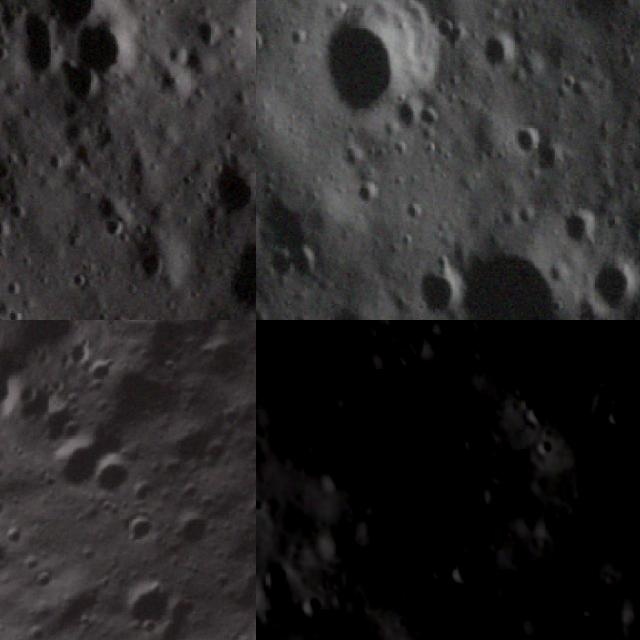crater: (314, 0, 451, 125), (346, 406, 462, 542), (460, 229, 589, 320), (256, 320, 362, 400), (59, 3, 148, 92), (190, 139, 256, 236), (39, 420, 118, 501), (107, 568, 192, 640), (206, 219, 256, 320), (83, 444, 148, 510), (160, 498, 225, 560), (194, 329, 256, 392), (23, 0, 120, 39), (413, 253, 464, 320), (589, 251, 640, 314), (114, 504, 166, 557), (122, 237, 174, 289), (180, 6, 232, 56), (479, 26, 527, 74), (566, 0, 640, 27), (562, 203, 599, 256), (421, 581, 464, 623), (326, 380, 368, 419), (258, 561, 293, 607), (265, 248, 302, 291), (504, 118, 544, 156), (285, 244, 321, 282), (448, 555, 482, 592), (518, 397, 556, 430), (472, 476, 507, 511), (392, 98, 425, 134), (434, 17, 466, 54), (530, 512, 567, 544), (314, 465, 351, 496), (355, 173, 382, 213), (424, 552, 456, 582), (283, 24, 311, 56), (398, 197, 428, 226), (604, 401, 632, 432), (418, 100, 444, 132), (331, 304, 380, 320), (532, 433, 560, 461), (516, 198, 542, 228), (297, 592, 323, 621), (456, 430, 484, 455), (256, 23, 269, 61), (376, 320, 410, 328)
